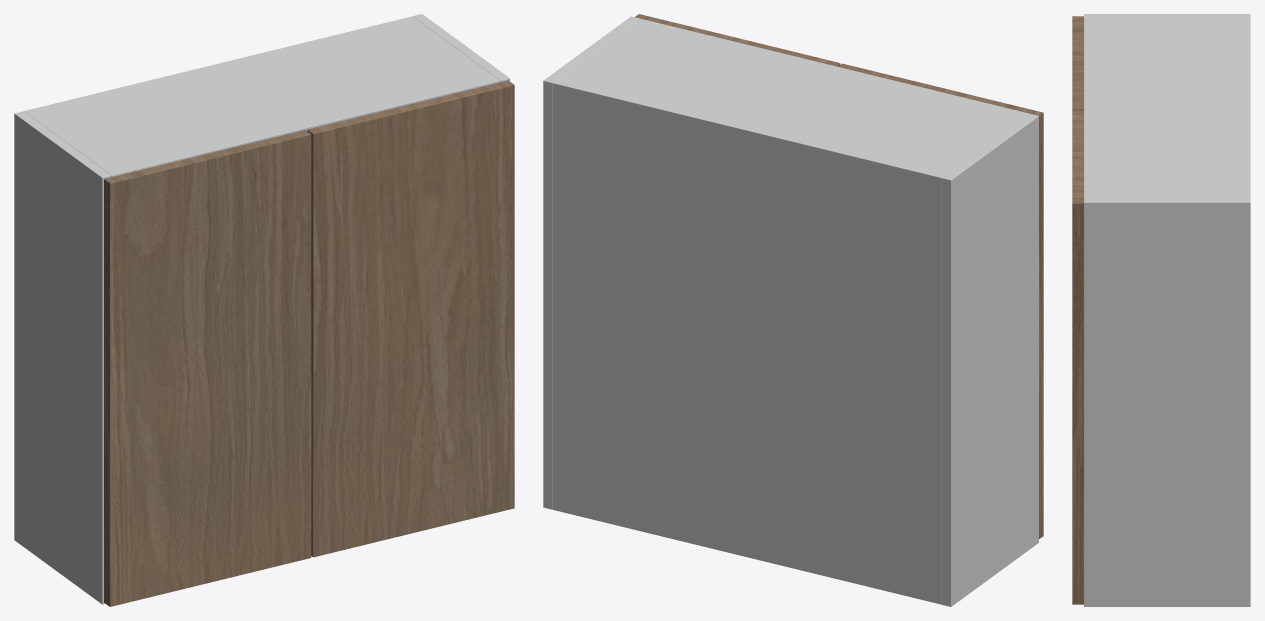
The model's file is oppein-pb-mnw-w3030.glb.
3 views of the same model, side by side, from view 1: azimuth 30°, elevation 25°; view 2: azimuth 150°, elevation 25°; view 3: azimuth 270°, elevation 25° (orthographic). The views are drawn at different scales.
Parts seen in each view (by area): view 1: Door, Door.001, Cabinet side, Cabinet top, Cabinet back, Cabinet side.001; view 2: Cabinet back, Cabinet side, Cabinet top, Cabinet side.001, Cabinet bottom, Door, Door.001; view 3: Cabinet side.001, Cabinet top, Door.001, Cabinet back, Door, Cabinet side.
Boxes of the visible parts, x1,y1,x2,y2 form: Door: (104, 130, 311, 606); Door.001: (307, 80, 514, 557); Cabinet side: (14, 111, 111, 604); Cabinet top: (24, 16, 500, 176); Cabinet back: (24, 16, 415, 113); Cabinet side.001: (413, 14, 509, 82); Cabinet back: (553, 80, 944, 604); Cabinet side: (941, 113, 1038, 606); Cabinet top: (553, 19, 1029, 186); Cabinet side.001: (543, 16, 640, 509); Cabinet bottom: (553, 500, 941, 604); Door: (838, 63, 1043, 538); Door.001: (635, 14, 840, 66); Cabinet side.001: (1084, 198, 1250, 606); Cabinet top: (1084, 18, 1250, 198); Door.001: (1072, 110, 1083, 604); Cabinet back: (1244, 18, 1250, 198); Door: (1072, 16, 1083, 110); Cabinet side: (1084, 14, 1250, 18).
Size of the model in its own units: 0.762 by 0.762 by 0.3048.
2 materials, 1 textured.
